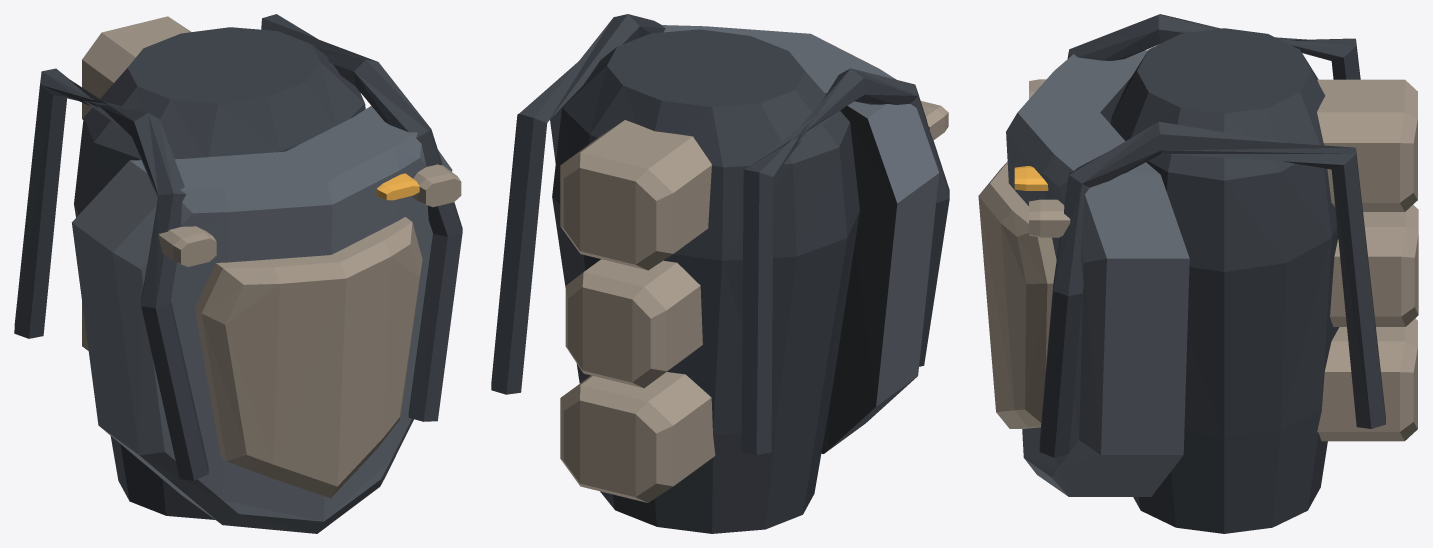
File: torso_heavy.glb
3 renders of one model, left to right at view 1: azimuth 30°, elevation 25°; view 2: azimuth 150°, elevation 25°; view 3: azimuth 270°, elevation 25°, orthographic. The views are drawn at different scales.
Parts seen in each view (by area): view 1: torso_heavy; view 2: torso_heavy; view 3: torso_heavy.
Boxes of the visible parts, x1,y1,x2,y2 form: torso_heavy: (14,14,462,533); torso_heavy: (491,14,949,533); torso_heavy: (978,14,1418,533).
Bounding box in the file's own units: 0.86 × 1.01 × 0.9577.
